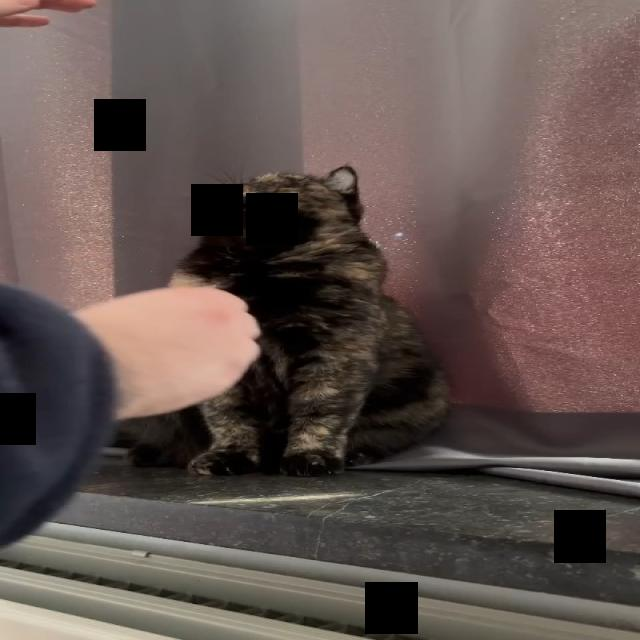authorized: (117, 164, 452, 477)
